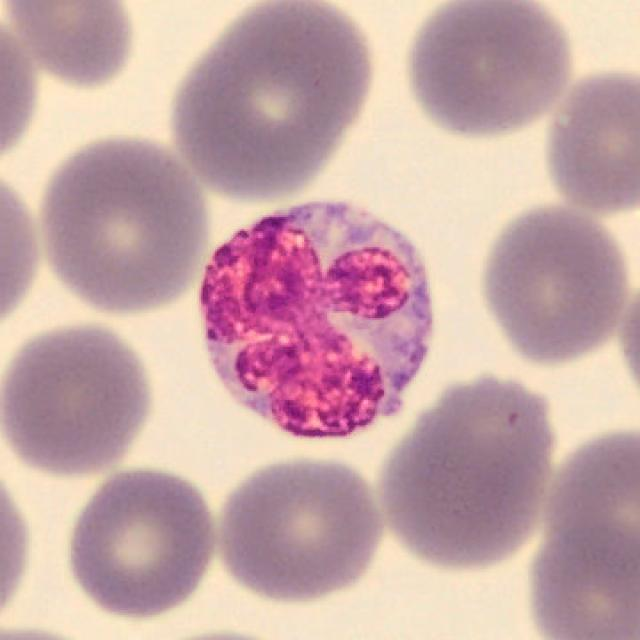Linfocito atipico: (201, 203, 434, 439)
